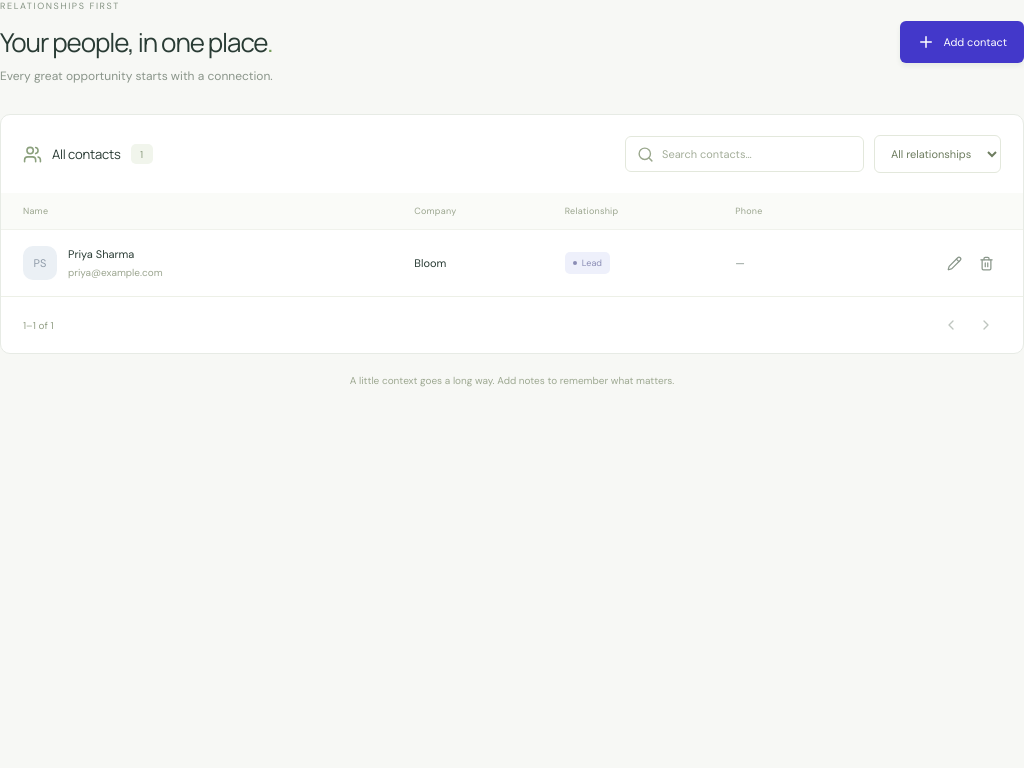
Test case: contact workflows › requires confirmation and preserves linked contacts on conflict
The width and height of the screenshot is (1024, 768).
Click the button named "Delete Priya Sharma" at (986, 263), box [971,248,1001,278]
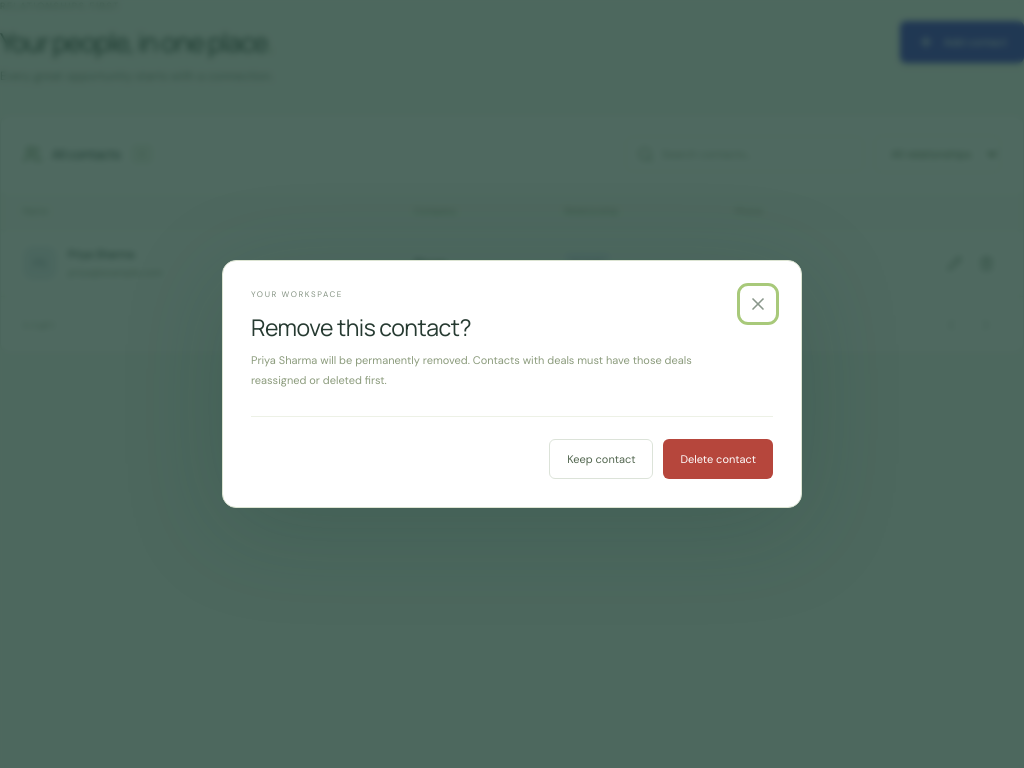
Check: the dialog is shown, box [222,260,802,508]
Click the button "Delete contact" at (718, 459), box [664,439,773,479]
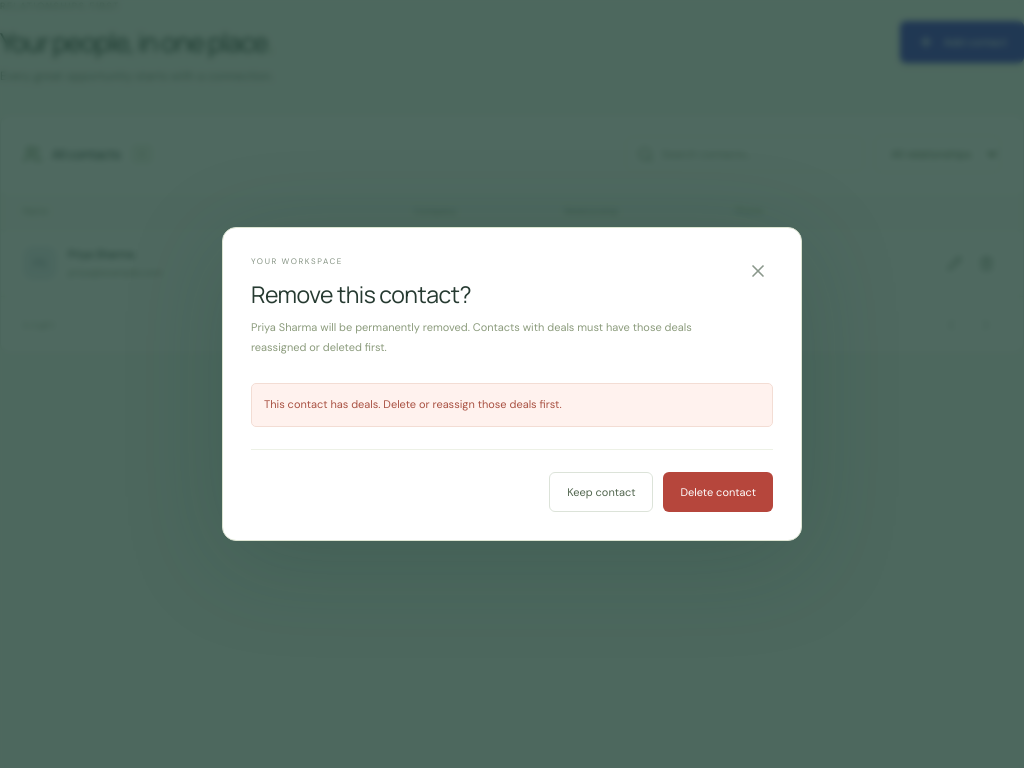
Check: the message shows "reassign", box [264,397,562,411]
